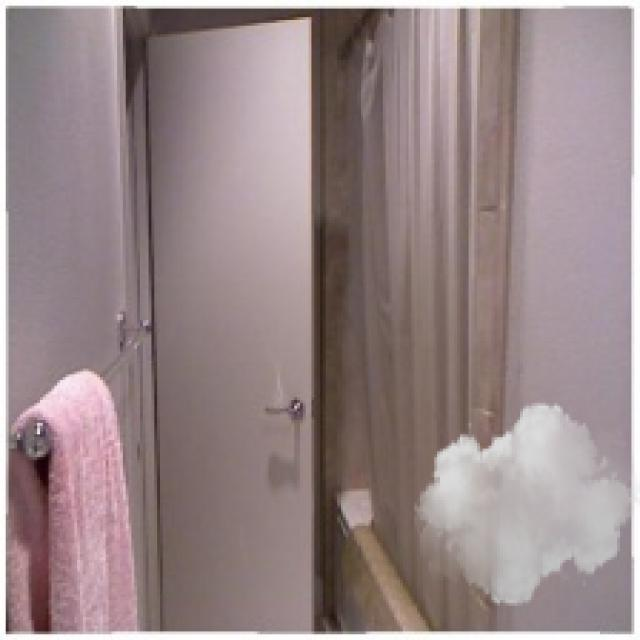Smoke: (414, 394, 637, 617)
